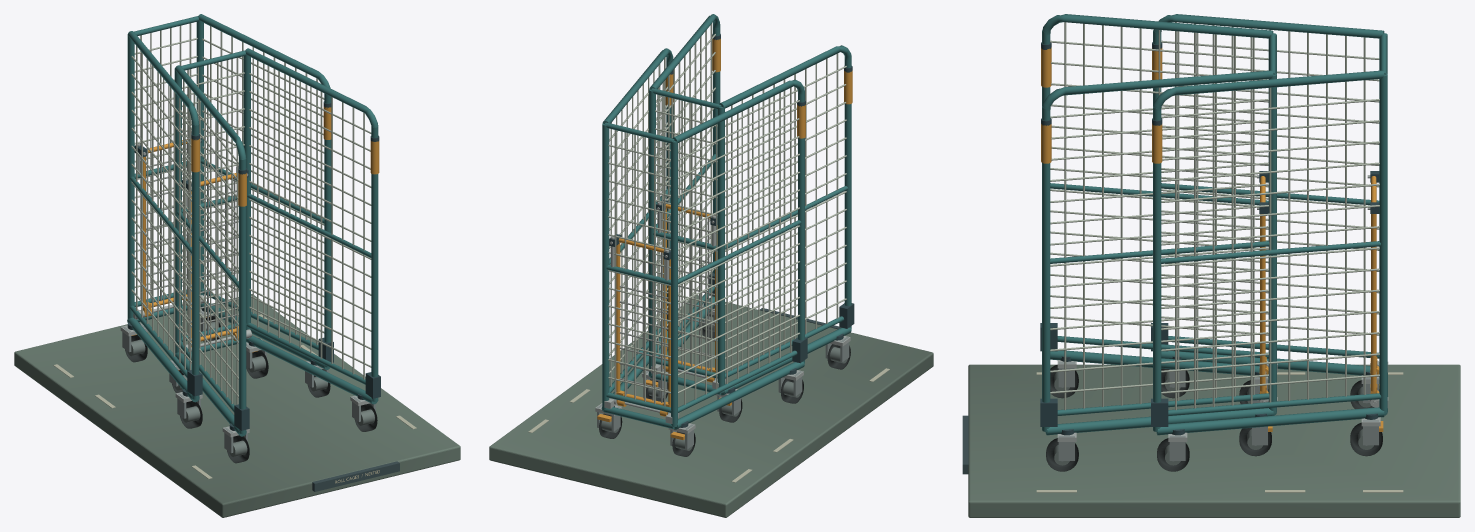
Rendered from nestable-stockroom-roll-cage-trolley.glb.
3 views of the same model, side by side, from view 1: azimuth 30°, elevation 25°; view 2: azimuth 150°, elevation 25°; view 3: azimuth 270°, elevation 25° (orthographic). The views are drawn at different scales.
Parts seen in each view (by area): view 1: Quiet textured stockroom exhibit plinth, Tall rear narrow structural tube LEFT, NESTED COPY Tall front side tubular upright LEFT, Tall front side tubular upright LEFT, NESTED COPY Tall front side tubular upright RIGHT, NESTED COPY Tall rear narrow structural tube RIGHT, Tall front side tubular upright RIGHT, NESTED COPY Tall rear narrow structural tube LEFT, NESTED COPY Solid tapered bottom outside tube RIGHT, NESTED COPY Curved capped top side tube RIGHT, Curved capped top side tube RIGHT, Tall rear narrow structural tube RIGHT (+26 smaller); view 2: Quiet textured stockroom exhibit plinth, Tall rear narrow structural tube RIGHT, Tall rear narrow structural tube LEFT, NESTED COPY Tall rear narrow structural tube LEFT, NESTED COPY Tall front side tubular upright LEFT, Tall front side tubular upright LEFT, NESTED COPY Tall rear narrow structural tube RIGHT, Solid tapered bottom outside tube LEFT, Curved capped top side tube LEFT, NESTED COPY Curved capped top side tube LEFT, NESTED COPY Curved capped top side tube RIGHT, Curved capped top side tube RIGHT (+22 smaller); view 3: Quiet textured stockroom exhibit plinth, Tall rear narrow structural tube RIGHT, Solid tapered bottom outside tube RIGHT, NESTED COPY Tall rear narrow structural tube RIGHT, NESTED COPY Tall front side tubular upright RIGHT, Tall front side tubular upright RIGHT, Curved capped top side tube RIGHT, NESTED COPY Curved capped top side tube RIGHT, NESTED COPY Curved capped top side tube LEFT, Curved capped top side tube LEFT, NESTED COPY Solid tapered bottom outside tube RIGHT, NESTED COPY Solid tapered bottom outside tube LEFT (+43 smaller).
Part boxes in pixels (x1,y1,x2,y2): Quiet textured stockroom exhibit plinth: [14, 294, 460, 517]; Tall rear narrow structural tube LEFT: [127, 34, 134, 318]; NESTED COPY Tall front side tubular upright LEFT: [239, 158, 246, 434]; Tall front side tubular upright LEFT: [192, 124, 199, 399]; NESTED COPY Tall front side tubular upright RIGHT: [371, 126, 378, 401]; NESTED COPY Tall rear narrow structural tube RIGHT: [243, 55, 250, 330]; Tall front side tubular upright RIGHT: [324, 94, 331, 367]; NESTED COPY Tall rear narrow structural tube LEFT: [174, 68, 181, 352]; NESTED COPY Solid tapered bottom outside tube RIGHT: [246, 335, 377, 404]; NESTED COPY Curved capped top side tube RIGHT: [245, 48, 378, 128]; Curved capped top side tube RIGHT: [198, 14, 330, 94]; Tall rear narrow structural tube RIGHT: [196, 20, 203, 295]; Quiet textured stockroom exhibit plinth: [489, 295, 933, 517]; Tall rear narrow structural tube RIGHT: [602, 123, 609, 409]; Tall rear narrow structural tube LEFT: [671, 141, 677, 426]; NESTED COPY Tall rear narrow structural tube LEFT: [717, 106, 724, 392]; NESTED COPY Tall front side tubular upright LEFT: [844, 57, 851, 329]; Tall front side tubular upright LEFT: [798, 90, 804, 363]; NESTED COPY Tall rear narrow structural tube RIGHT: [649, 89, 655, 375]; Solid tapered bottom outside tube LEFT: [674, 362, 804, 429]; Curved capped top side tube LEFT: [672, 79, 804, 142]; NESTED COPY Curved capped top side tube LEFT: [719, 45, 851, 108]; NESTED COPY Curved capped top side tube RIGHT: [649, 14, 719, 89]; Curved capped top side tube RIGHT: [602, 48, 673, 123]; Quiet textured stockroom exhibit plinth: [968, 364, 1460, 517]; Tall rear narrow structural tube RIGHT: [1379, 73, 1387, 413]; Solid tapered bottom outside tube RIGHT: [1156, 407, 1384, 435]; NESTED COPY Tall rear narrow structural tube RIGHT: [1268, 73, 1276, 413]; NESTED COPY Tall front side tubular upright RIGHT: [1042, 106, 1050, 431]; Tall front side tubular upright RIGHT: [1153, 106, 1161, 431]; Curved capped top side tube RIGHT: [1153, 70, 1384, 111]; NESTED COPY Curved capped top side tube RIGHT: [1042, 70, 1273, 111]; NESTED COPY Curved capped top side tube LEFT: [1042, 14, 1273, 38]; Curved capped top side tube LEFT: [1153, 14, 1384, 38]; NESTED COPY Solid tapered bottom outside tube RIGHT: [1045, 408, 1273, 435]; NESTED COPY Solid tapered bottom outside tube LEFT: [1050, 350, 1267, 376].
Size of the model in its own units: 1.13 by 1.53 by 1.73.
